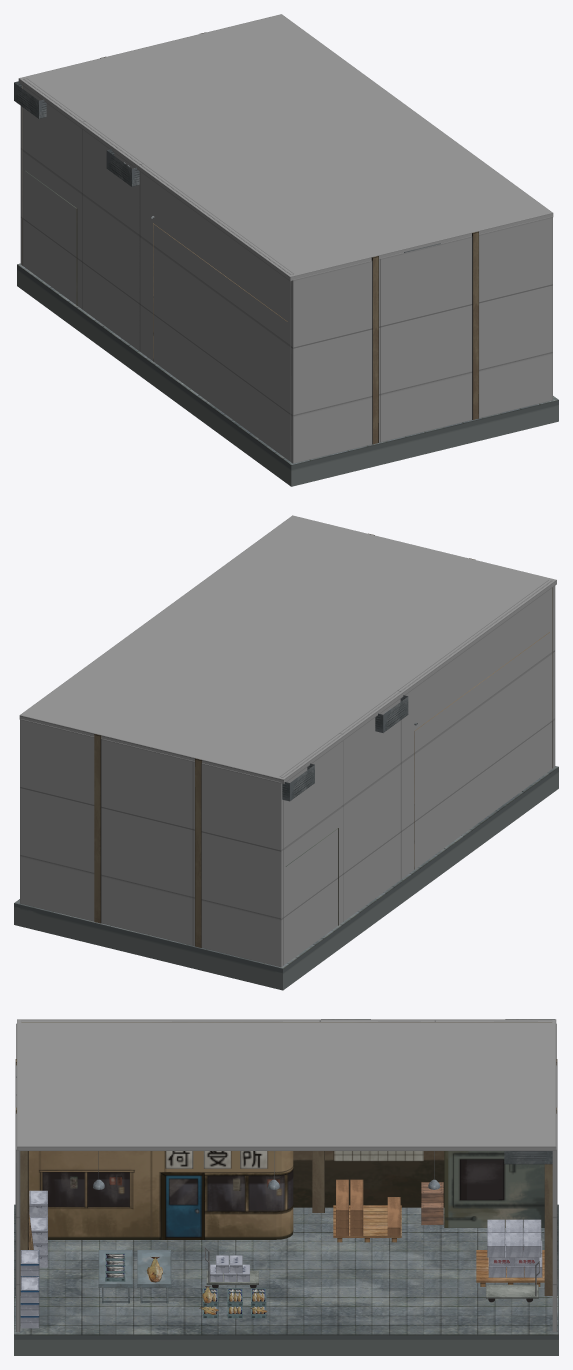
The model's file is fish warehouse04.fbx.
3 views of the same model, one above another, from view 1: azimuth 30°, elevation 25°; view 2: azimuth 150°, elevation 25°; view 3: azimuth 270°, elevation 25° (orthographic).
Visible parts, largest first — view 1: Cube.122, Cube.108, Cube.109, Cube.023, Cube.038, Cube.158, Cube.107, Cube.110; view 2: Cube.122, Cube.108, Cube.030, Cube.023, Cube.116, Cube.117, Cube.109, Cube.107, Cube.110; view 3: Cube.122, Cube.023, Cube.029, Cube.108, Cube.025, Cube.116, Cube.039, Cube.158, Cube.027, Cube.109, Cube.030, Cube.045 (+15 smaller).
Boxes of the visible parts, bbox=[...] form: Cube.122: bbox=[18, 14, 553, 281]; Cube.108: bbox=[23, 78, 293, 461]; Cube.109: bbox=[291, 216, 552, 463]; Cube.023: bbox=[17, 263, 558, 486]; Cube.038: bbox=[371, 256, 378, 444]; Cube.158: bbox=[472, 231, 478, 419]; Cube.107: bbox=[106, 149, 139, 186]; Cube.110: bbox=[14, 81, 46, 118]; Cube.122: bbox=[19, 515, 556, 783]; Cube.108: bbox=[280, 580, 552, 965]; Cube.030: bbox=[20, 719, 283, 967]; Cube.023: bbox=[14, 766, 558, 990]; Cube.116: bbox=[94, 734, 101, 923]; Cube.117: bbox=[195, 758, 201, 947]; Cube.109: bbox=[552, 586, 555, 768]; Cube.107: bbox=[375, 695, 408, 732]; Cube.110: bbox=[282, 763, 314, 801]; Cube.122: bbox=[17, 1019, 556, 1150]; Cube.023: bbox=[14, 1204, 558, 1355]; Cube.029: bbox=[28, 1151, 293, 1239]; Cube.108: bbox=[21, 1020, 552, 1207]; Cube.025: bbox=[444, 1151, 544, 1227]; Cube.116: bbox=[544, 1107, 557, 1295]; Cube.039: bbox=[137, 1250, 171, 1303]; Cube.158: bbox=[15, 1107, 28, 1295]; Cube.027: bbox=[333, 1205, 401, 1237]; Cube.109: bbox=[16, 1023, 20, 1331]; Cube.030: bbox=[552, 1023, 556, 1331]; Cube.045: bbox=[98, 1250, 132, 1303].
Bounding box in the file's own units: 358 × 262 × 625.
40 materials, 40 textured.
